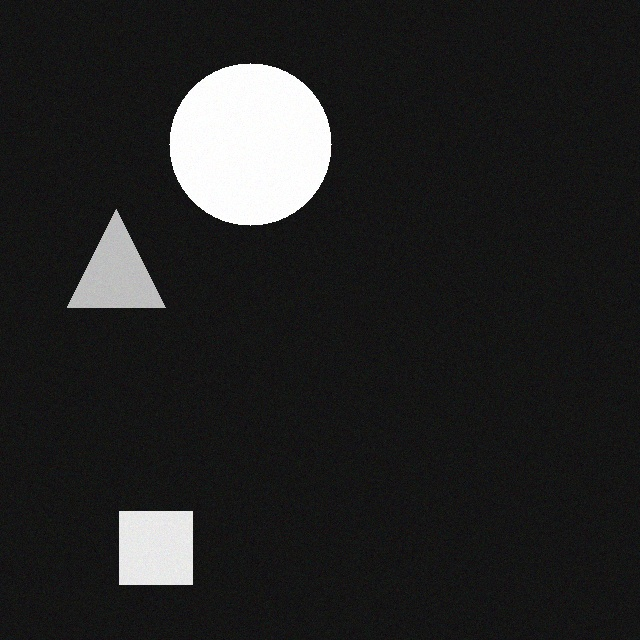circle: (166, 61, 328, 223)
square: (116, 509, 189, 582)
triangle: (64, 207, 162, 305)
